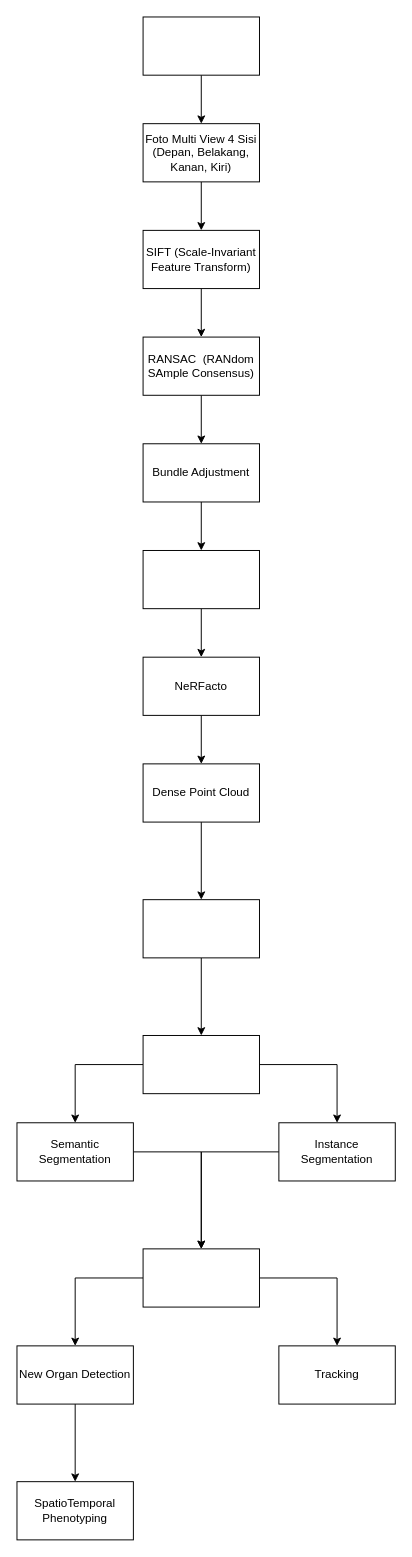
This 412x1557 diagram has some shape labels left out. Here are the shapes that lost their labels. From the top down, the centre of each, then its label:
At point (200, 45): "Tanaman Cabai".
At point (200, 579): "Sparse Point Cloud".
At point (200, 928): "Statistical Outlier Removal".
At point (200, 1064): "Clean 3D Plant".
At point (200, 1277): "Organ Identity".
